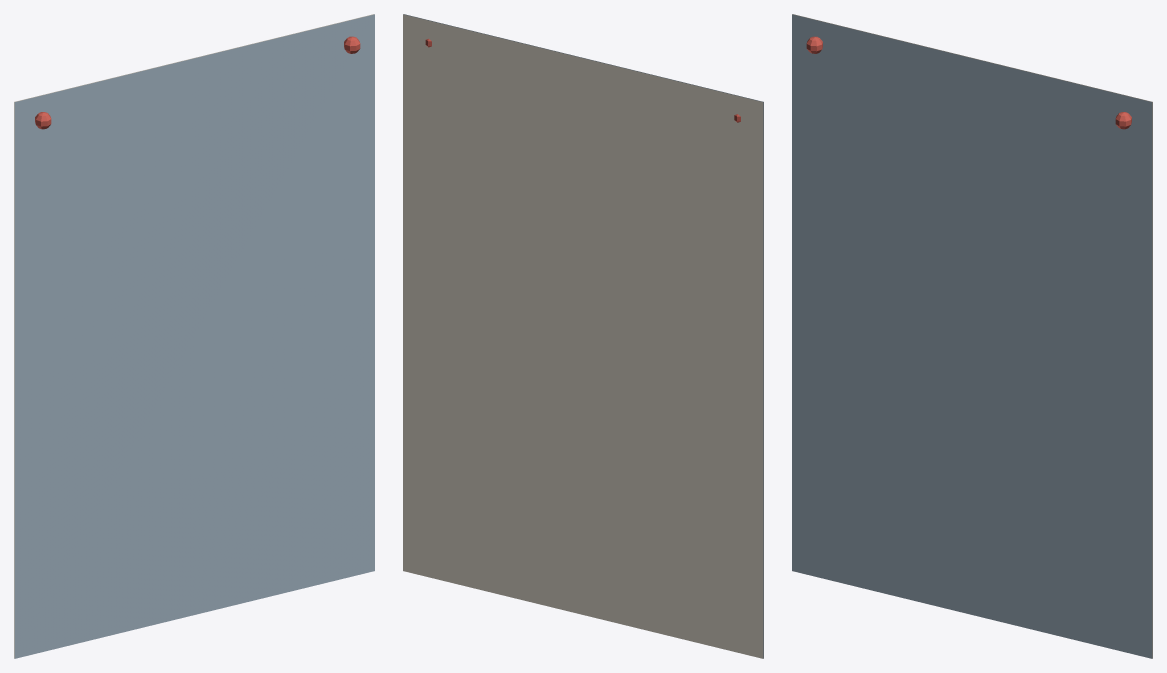
File: Garage_Card_Poster_B.glb
3 renders of one model, left to right at view 1: azimuth 30°, elevation 25°; view 2: azimuth 150°, elevation 25°; view 3: azimuth 330°, elevation 25°, orthographic.
Parts seen in each view (by area): view 1: Garage_Card_Poster_B; view 2: Garage_Card_Poster_B; view 3: Garage_Card_Poster_B.
Part boxes in pixels (x1,y1,x2,y2): Garage_Card_Poster_B: (14, 14, 374, 658); Garage_Card_Poster_B: (403, 14, 763, 658); Garage_Card_Poster_B: (792, 14, 1152, 658).
Bounding box in the file's own units: 0.42 × 0.62 × 0.0171.
